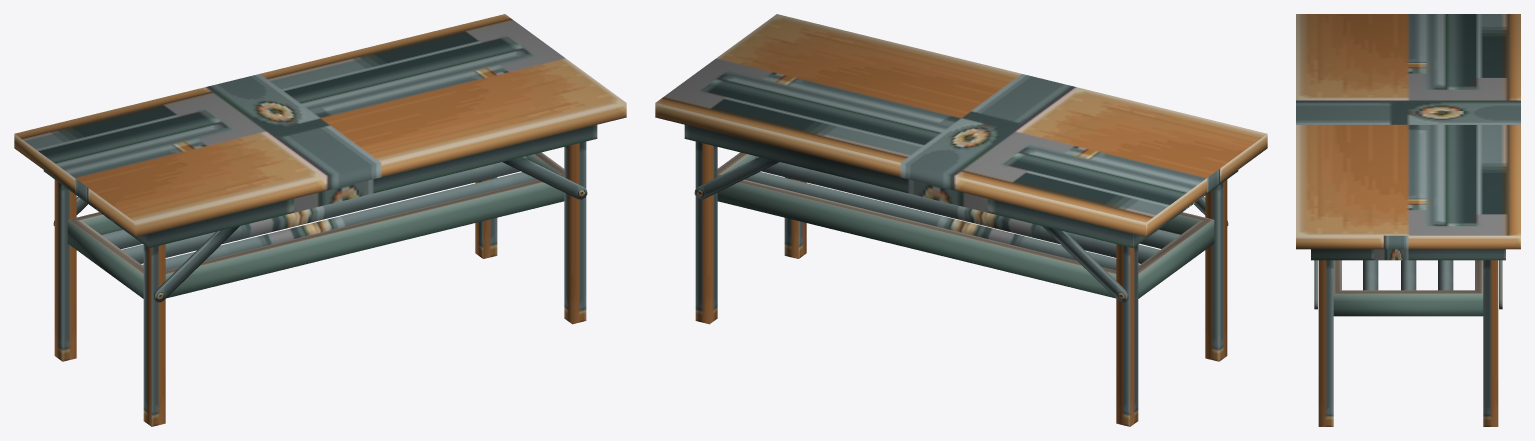
File: int_wrs_tableM.dae
3 renders of one model, left to right at view 1: azimuth 30°, elevation 25°; view 2: azimuth 150°, elevation 25°; view 3: azimuth 270°, elevation 25°, orthographic. The views are drawn at different scales.
Parts seen in each view (by area): view 1: int_wrs_tableM; view 2: int_wrs_tableM; view 3: int_wrs_tableM.
Part boxes in pixels (x1,y1,x2,y2): int_wrs_tableM: [14, 14, 626, 426]; int_wrs_tableM: [655, 14, 1267, 426]; int_wrs_tableM: [1296, 14, 1520, 426].
Bounding box in the file's own units: 56 × 24 × 24.
Materials: 1 (1 with a texture image).
